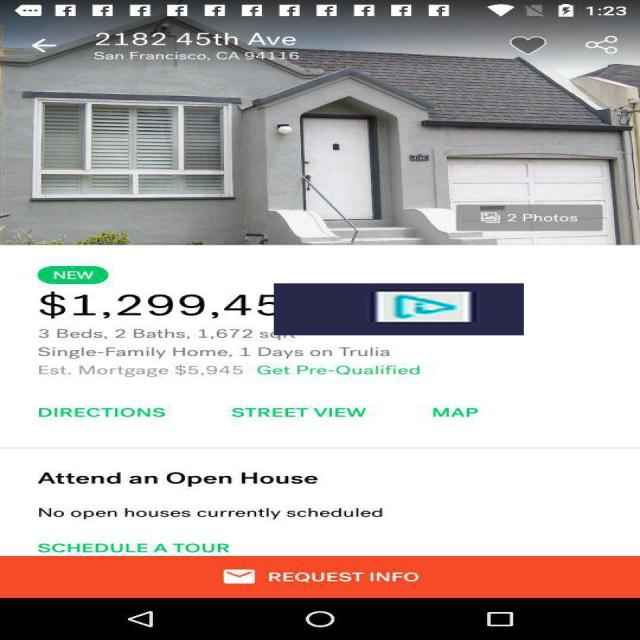sneaking: (274, 284, 524, 336)
